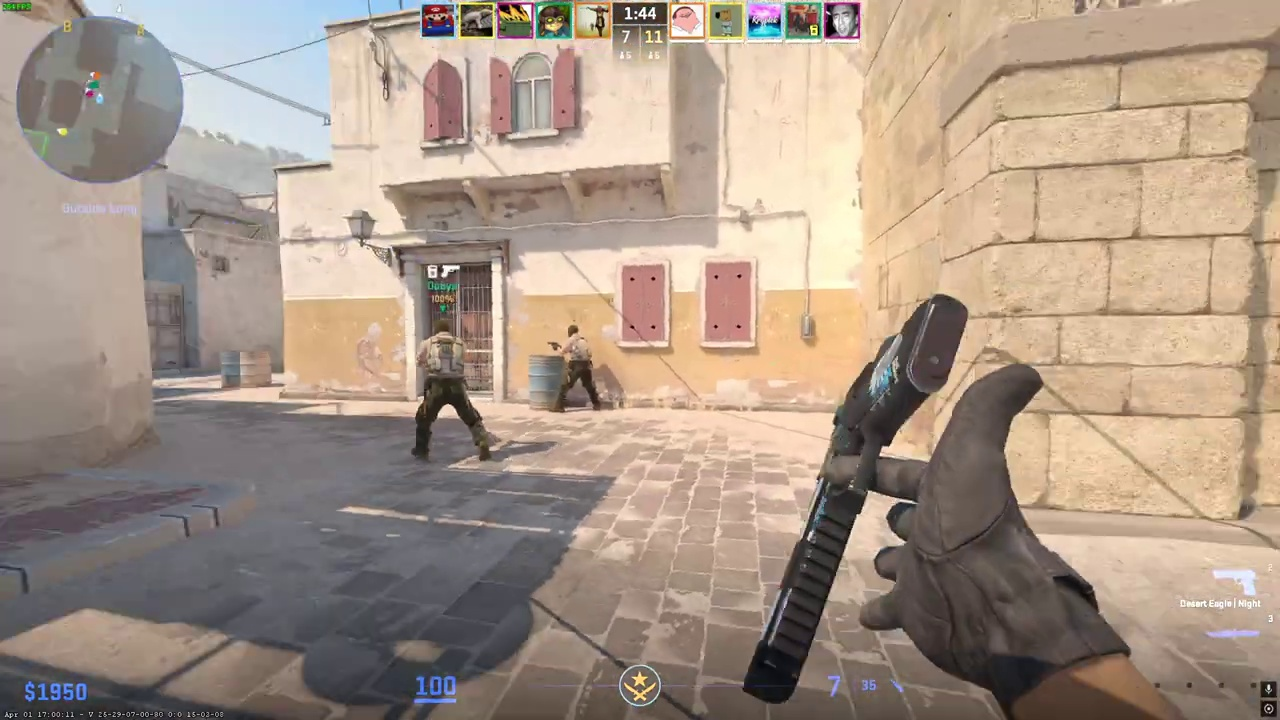Terrorist: (411, 320, 489, 463), (551, 324, 601, 413)
